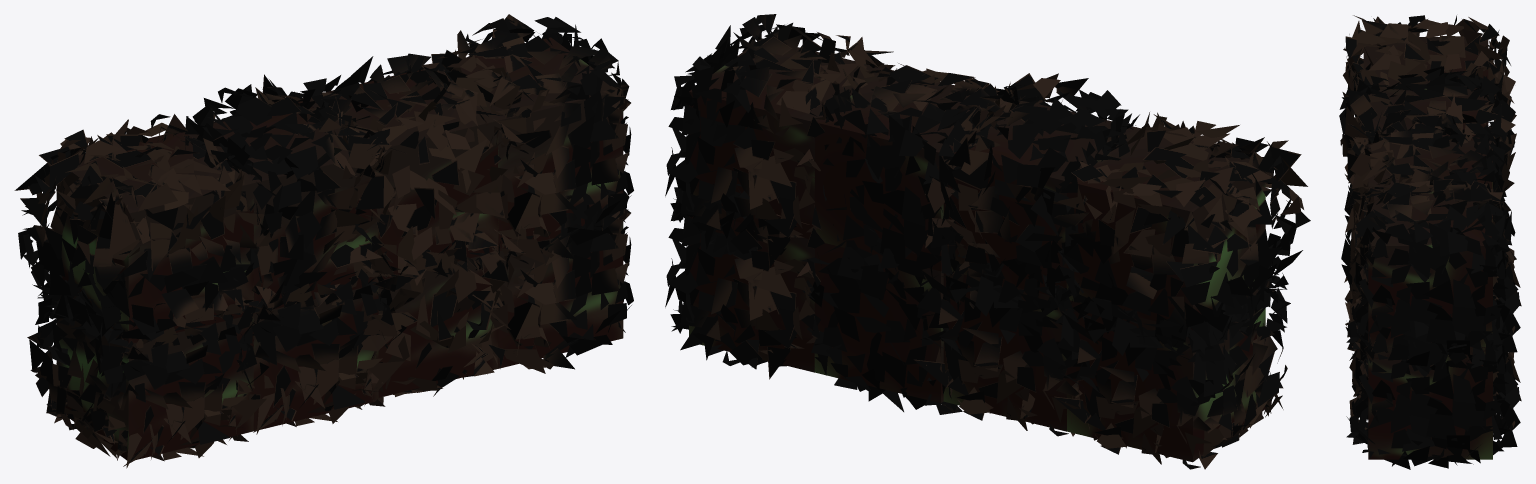
File: stackedhedge.fbx
3 renders of one model, left to right at view 1: azimuth 30°, elevation 25°; view 2: azimuth 150°, elevation 25°; view 3: azimuth 270°, elevation 25°, orthographic. The views are drawn at different scales.
Visible parts, largest first — view 1: Cube.195, Cube.201, Cube.197, Cube.187, Cube.199, Cube.189, Cube.193, Cube.191, Cube.196, Cube.188, Cube.200, Cube.202 (+4 smaller); view 2: Cube.195, Cube.201, Cube.197, Cube.187, Cube.199, Cube.189, Cube.193, Cube.191, Cube.200, Cube.196, Cube.188, Cube.202 (+4 smaller); view 3: Cube.201, Cube.193, Cube.197, Cube.195, Cube.199, Cube.202, Cube.194, Cube.200, Cube.198, Cube.196, Cube.189, Cube.191.
Boxes of the visible parts, x1,y1,x2,y2 form: Cube.195: (14,114,264,343); Cube.201: (422,14,633,263); Cube.197: (185,74,396,323); Cube.187: (27,275,268,468); Cube.199: (288,53,505,282); Cube.189: (231,269,406,434); Cube.193: (489,185,633,373); Cube.191: (357,236,514,408); Cube.196: (56,132,253,343); Cube.188: (56,296,253,460); Cube.200: (303,69,498,279); Cube.202: (439,37,623,250); Cube.195: (1054,112,1310,355); Cube.201: (665,14,895,268); Cube.197: (924,73,1139,313); Cube.187: (1054,280,1290,469); Cube.199: (819,63,1020,293); Cube.189: (914,253,1089,436); Cube.193: (665,184,824,379); Cube.191: (800,228,962,414); Cube.200: (814,70,988,271); Cube.196: (1066,128,1265,330); Cube.188: (1066,287,1265,462); Cube.202: (689,38,883,238); Cube.201: (1346,176,1521,374); Cube.193: (1346,284,1521,469); Cube.197: (1342,66,1516,208); Cube.195: (1339,15,1516,184); Cube.199: (1345,113,1507,302); Cube.202: (1368,193,1492,358); Cube.194: (1368,347,1492,459); Cube.200: (1368,140,1492,193); Cube.198: (1365,89,1488,148); Cube.196: (1363,37,1488,89); Cube.189: (1341,204,1516,351); Cube.191: (1345,283,1498,398).
Size of the model in its own units: 289 by 152 by 94.24.
2 materials, 2 textured.
